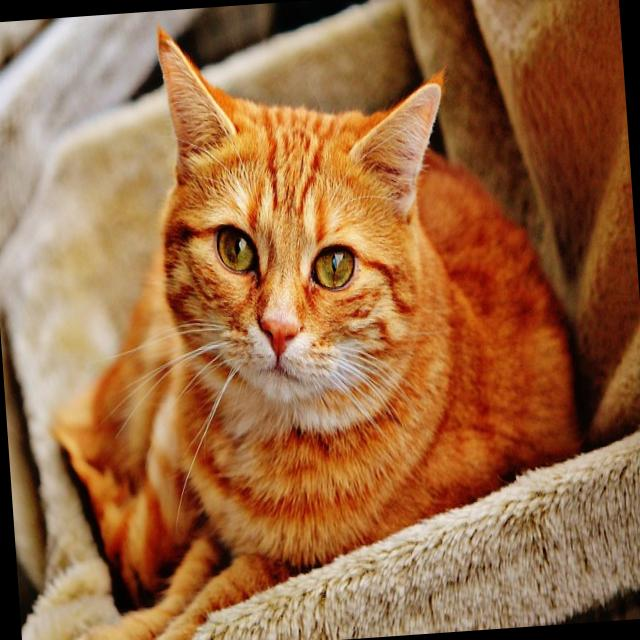cat: (22, 1, 595, 640)
